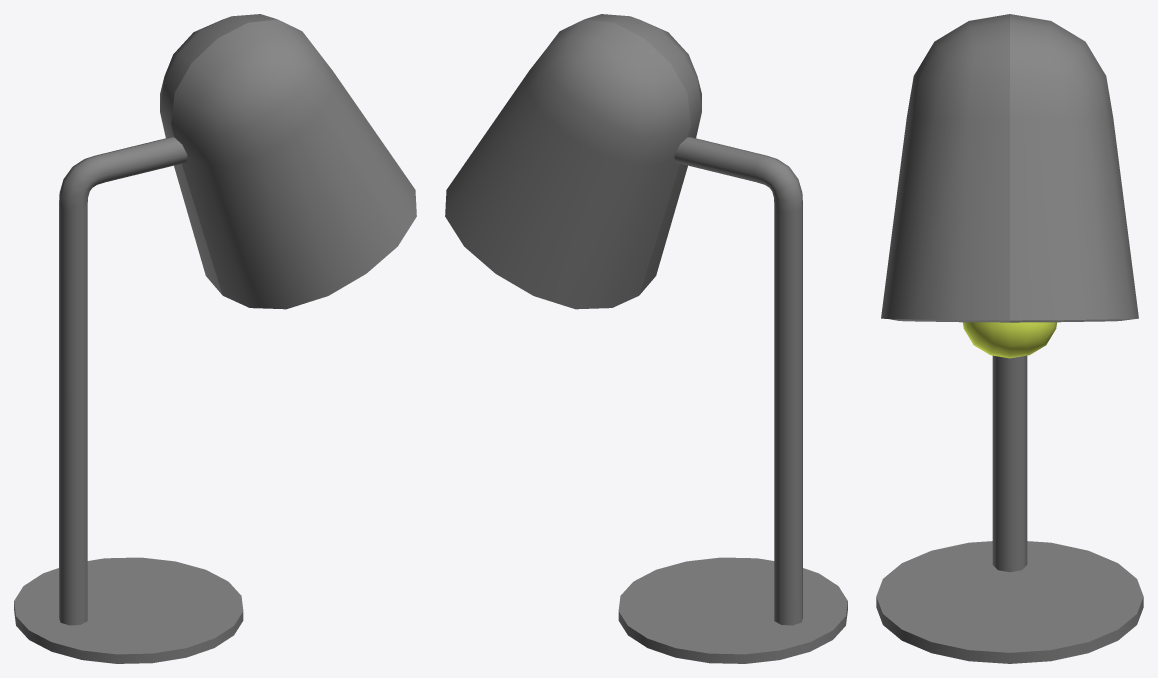
Rendered from DES_DeskLamp.fbx.
The picture shows the model from 3 angles, left to right: view 1: azimuth 30°, elevation 25°; view 2: azimuth 150°, elevation 25°; view 3: azimuth 270°, elevation 25°; orthographic projection. The views are drawn at different scales.
Parts seen in each view (by area): view 1: DeskLampBrokenPiece_3, DeskLampBrokenPiece_1, DeskLampBrokenPiece_6, DeskLampBrokenPiece_4, DeskLampBrokenPiece_5; view 2: DeskLampBrokenPiece_4, DeskLampBrokenPiece_1, DeskLampBrokenPiece_6, DeskLampBrokenPiece_3, DeskLampBrokenPiece_5; view 3: DeskLampBrokenPiece_4, DeskLampBrokenPiece_3, DeskLampBrokenPiece_1, DeskLampBrokenPiece_6, DeskLampBrokenPiece_2.
Part boxes in pixels (bbox=[...]): DeskLampBrokenPiece_3: bbox=[171, 19, 416, 309]; DeskLampBrokenPiece_1: bbox=[14, 557, 243, 663]; DeskLampBrokenPiece_6: bbox=[59, 179, 89, 625]; DeskLampBrokenPiece_4: bbox=[160, 14, 276, 294]; DeskLampBrokenPiece_5: bbox=[63, 137, 187, 191]; DeskLampBrokenPiece_4: bbox=[445, 19, 690, 309]; DeskLampBrokenPiece_1: bbox=[618, 557, 847, 663]; DeskLampBrokenPiece_6: bbox=[772, 179, 802, 625]; DeskLampBrokenPiece_3: bbox=[585, 14, 701, 294]; DeskLampBrokenPiece_5: bbox=[674, 137, 798, 191]; DeskLampBrokenPiece_4: bbox=[1010, 14, 1138, 322]; DeskLampBrokenPiece_3: bbox=[881, 14, 1009, 322]; DeskLampBrokenPiece_1: bbox=[876, 541, 1143, 663]; DeskLampBrokenPiece_6: bbox=[992, 355, 1027, 572]; DeskLampBrokenPiece_2: bbox=[962, 322, 1057, 358].
Bounding box in the file's own units: 36.76 × 53.53 × 19.85.
